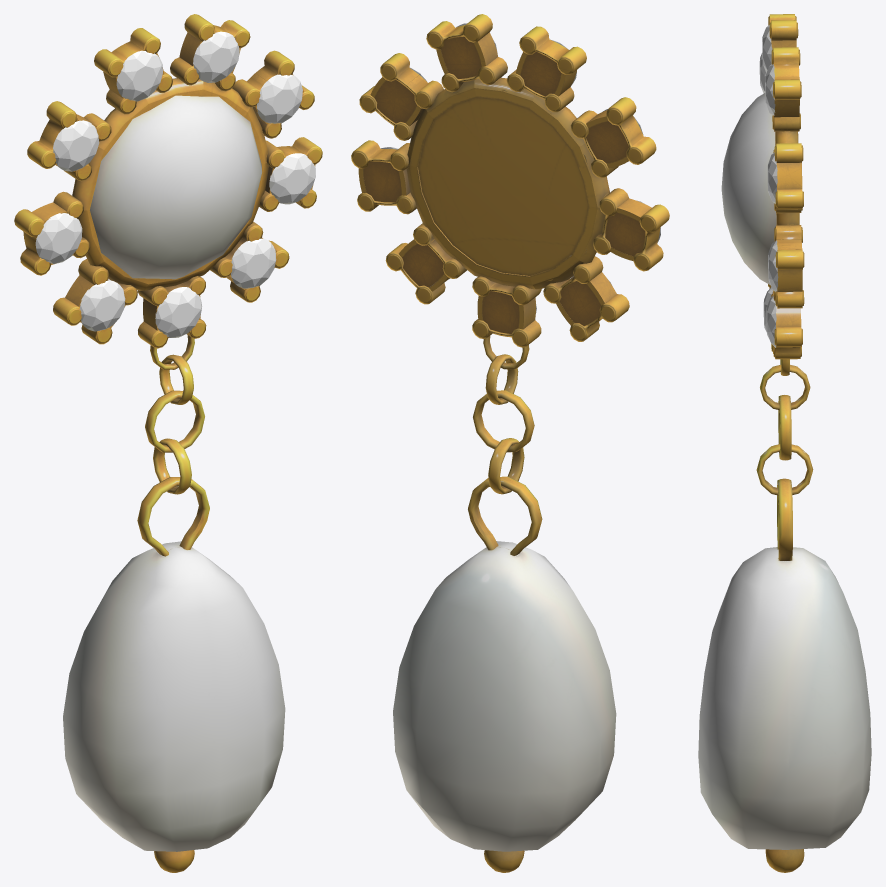
Rendered from earring.glb.
The picture shows the model from 3 angles, left to right: view 1: azimuth 30°, elevation 25°; view 2: azimuth 150°, elevation 25°; view 3: azimuth 270°, elevation 25°; orthographic projection.
Visible parts, largest first — view 1: accessory1; view 2: accessory1; view 3: accessory1.
Boxes of the visible parts, bbox=[...] form: accessory1: bbox=[14, 14, 322, 872]; accessory1: bbox=[351, 14, 669, 872]; accessory1: bbox=[698, 14, 871, 872].
Bounding box in the file's own units: 1.35 × 3.62 × 0.681.
Materials: 1 (1 with a texture image).
